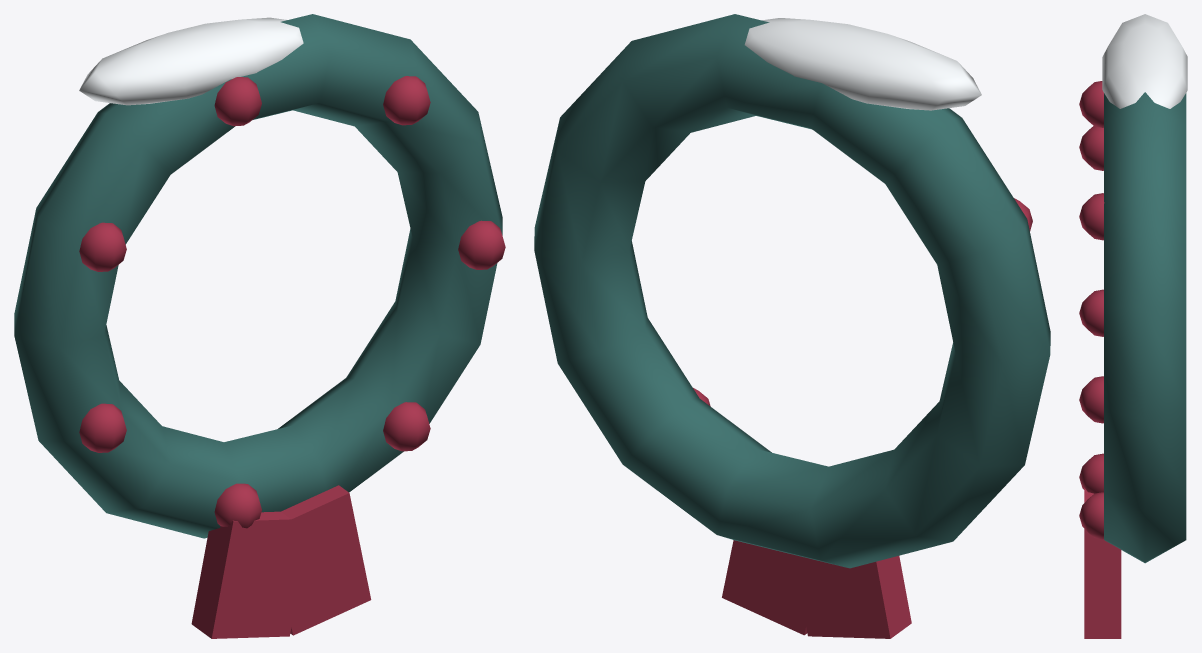
File: alpine-snow-village-alpine-door-wreath-466a115d__19849.glb
3 renders of one model, left to right at view 1: azimuth 30°, elevation 25°; view 2: azimuth 150°, elevation 25°; view 3: azimuth 270°, elevation 25°, orthographic. The views are drawn at different scales.
Parts seen in each view (by area): view 1: alpine-door-wreath-pine, alpine-door-wreath-berry, alpine-door-wreath-snow; view 2: alpine-door-wreath-pine, alpine-door-wreath-snow, alpine-door-wreath-berry; view 3: alpine-door-wreath-pine, alpine-door-wreath-berry, alpine-door-wreath-snow.
Part boxes in pixels (box(x1,y1,x2,y2)): alpine-door-wreath-pine: box(14, 14, 502, 538); alpine-door-wreath-berry: box(79, 76, 505, 638); alpine-door-wreath-snow: box(79, 17, 303, 105); alpine-door-wreath-pine: box(534, 14, 1050, 568); alpine-door-wreath-snow: box(744, 18, 981, 110); alpine-door-wreath-berry: box(693, 198, 1032, 638); alpine-door-wreath-pine: box(1104, 92, 1186, 563); alpine-door-wreath-berry: box(1079, 81, 1121, 638); alpine-door-wreath-snow: box(1102, 14, 1187, 108).
Bounding box in the file's own units: 0.98 × 1.14 × 0.2058.
